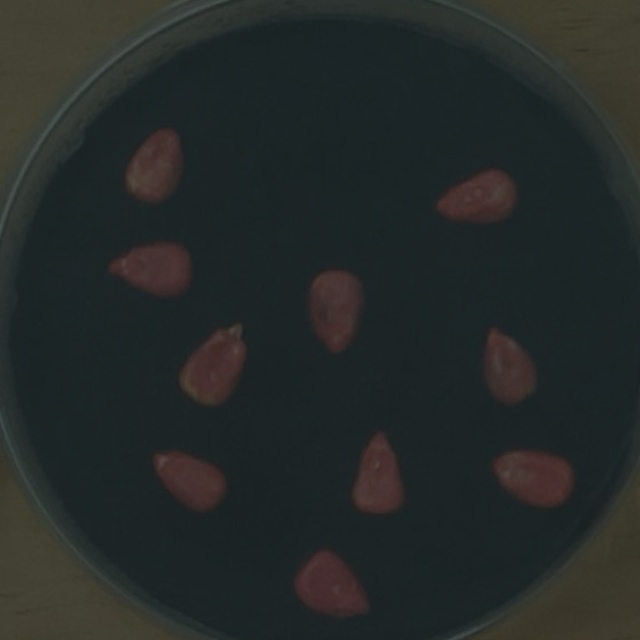Zea mays: (167, 313, 256, 416), (284, 540, 379, 629), (139, 441, 237, 525), (296, 259, 373, 365), (98, 231, 204, 307), (339, 421, 415, 526), (113, 117, 195, 214), (481, 442, 584, 517), (472, 315, 548, 416), (426, 161, 527, 234)
